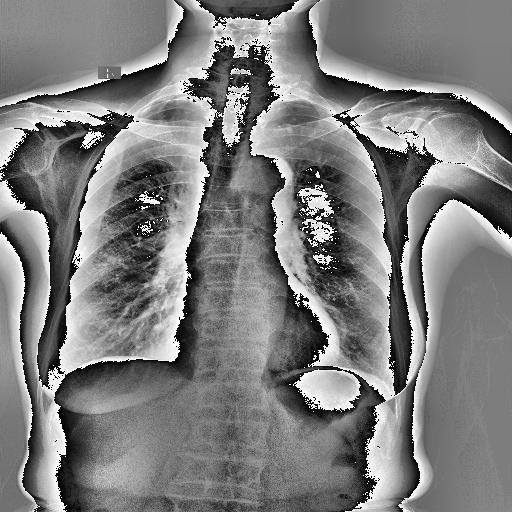0- Aortic enlargement: (240, 150, 292, 218), (233, 154, 295, 203), (238, 153, 294, 194)
11- Pleural thickening: (153, 92, 194, 106), (154, 94, 200, 104), (154, 93, 198, 103), (280, 97, 311, 103)
13- Pulmonary fibrosis: (286, 114, 306, 134)
8- Nodule-Mass: (284, 124, 294, 134)
